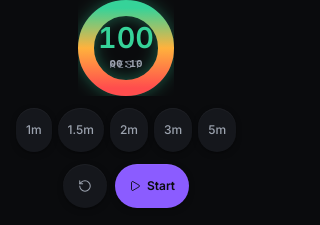
it: RestTimer › resets when reset button is clicked
Click the button with test id "rest-timer-toggle". click: (152, 186)
box: [115,164,189,208]
Wait 3000 ms
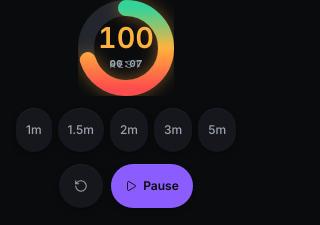
Click the button with test id "rest-timer-reset". click: (81, 186)
box: [59,164,103,208]
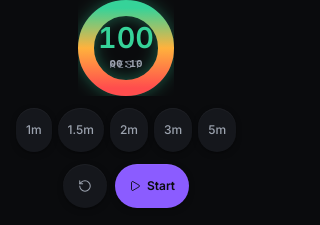
Expected: the button with test id "rest-timer-toggle" reads "Start", [115,164,189,208]
